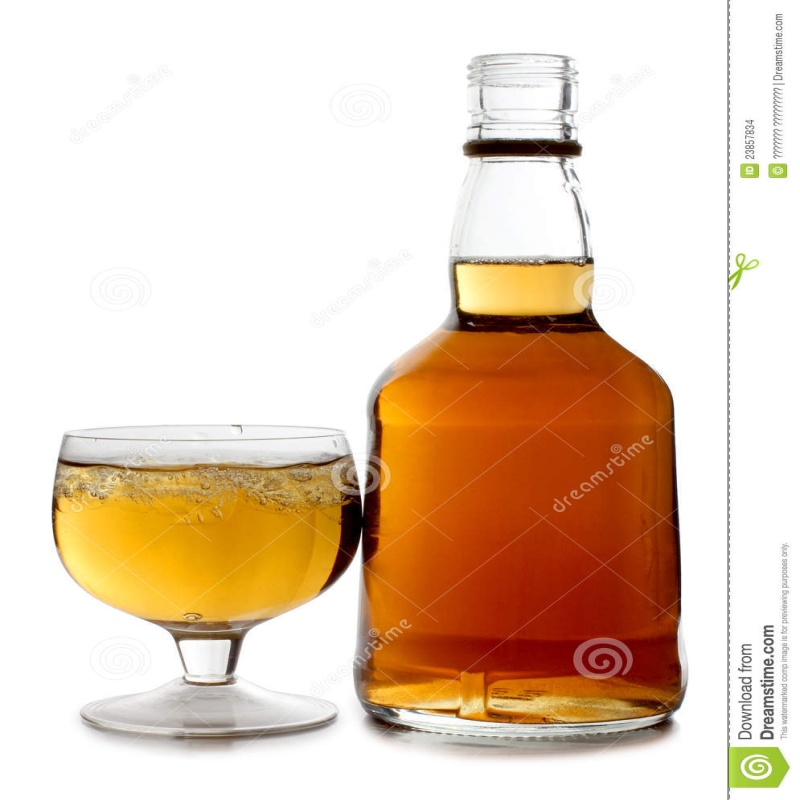whiskey: (50, 422, 366, 749)
